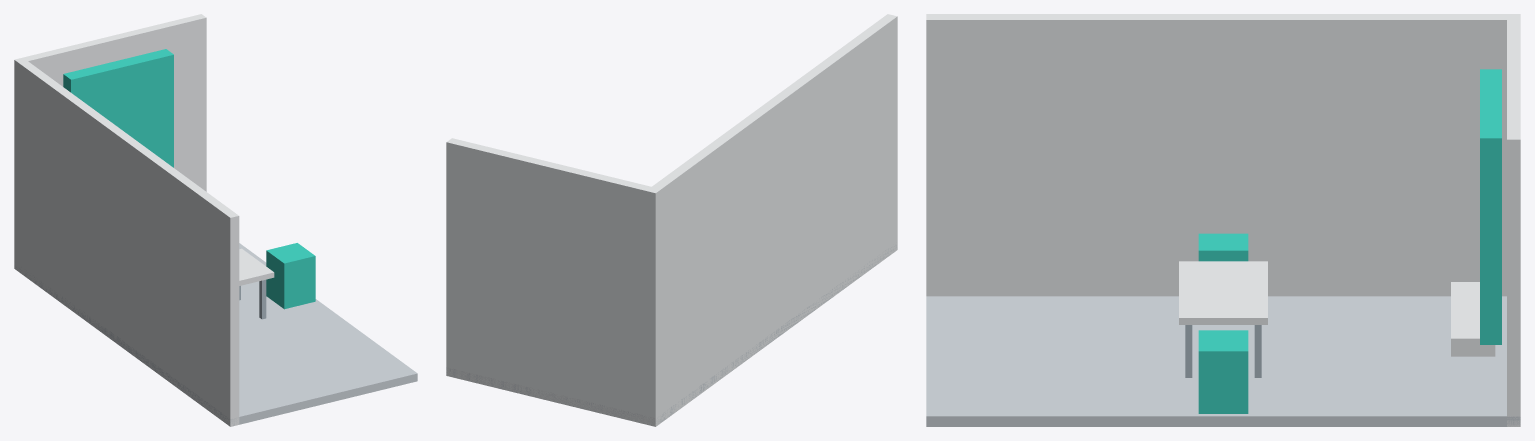
The picture shows the model from 3 angles, left to right: view 1: azimuth 30°, elevation 25°; view 2: azimuth 150°, elevation 25°; view 3: azimuth 270°, elevation 25°; orthographic projection. The views are drawn at different scales.
Parts seen in each view (by area): view 1: Exhibition Booth Concept; view 2: Exhibition Booth Concept; view 3: Exhibition Booth Concept.
Part boxes in pixels (x1,y1,x2,y2): Exhibition Booth Concept: (14, 14, 417, 426); Exhibition Booth Concept: (446, 14, 897, 426); Exhibition Booth Concept: (926, 14, 1520, 426).
Size of the model in its own units: 3 by 3.2 by 6.
